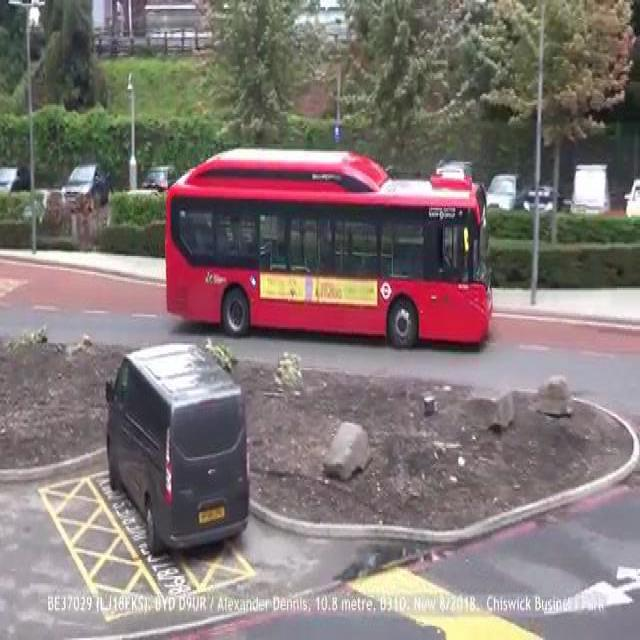motorcycle: (168, 156, 491, 345)
